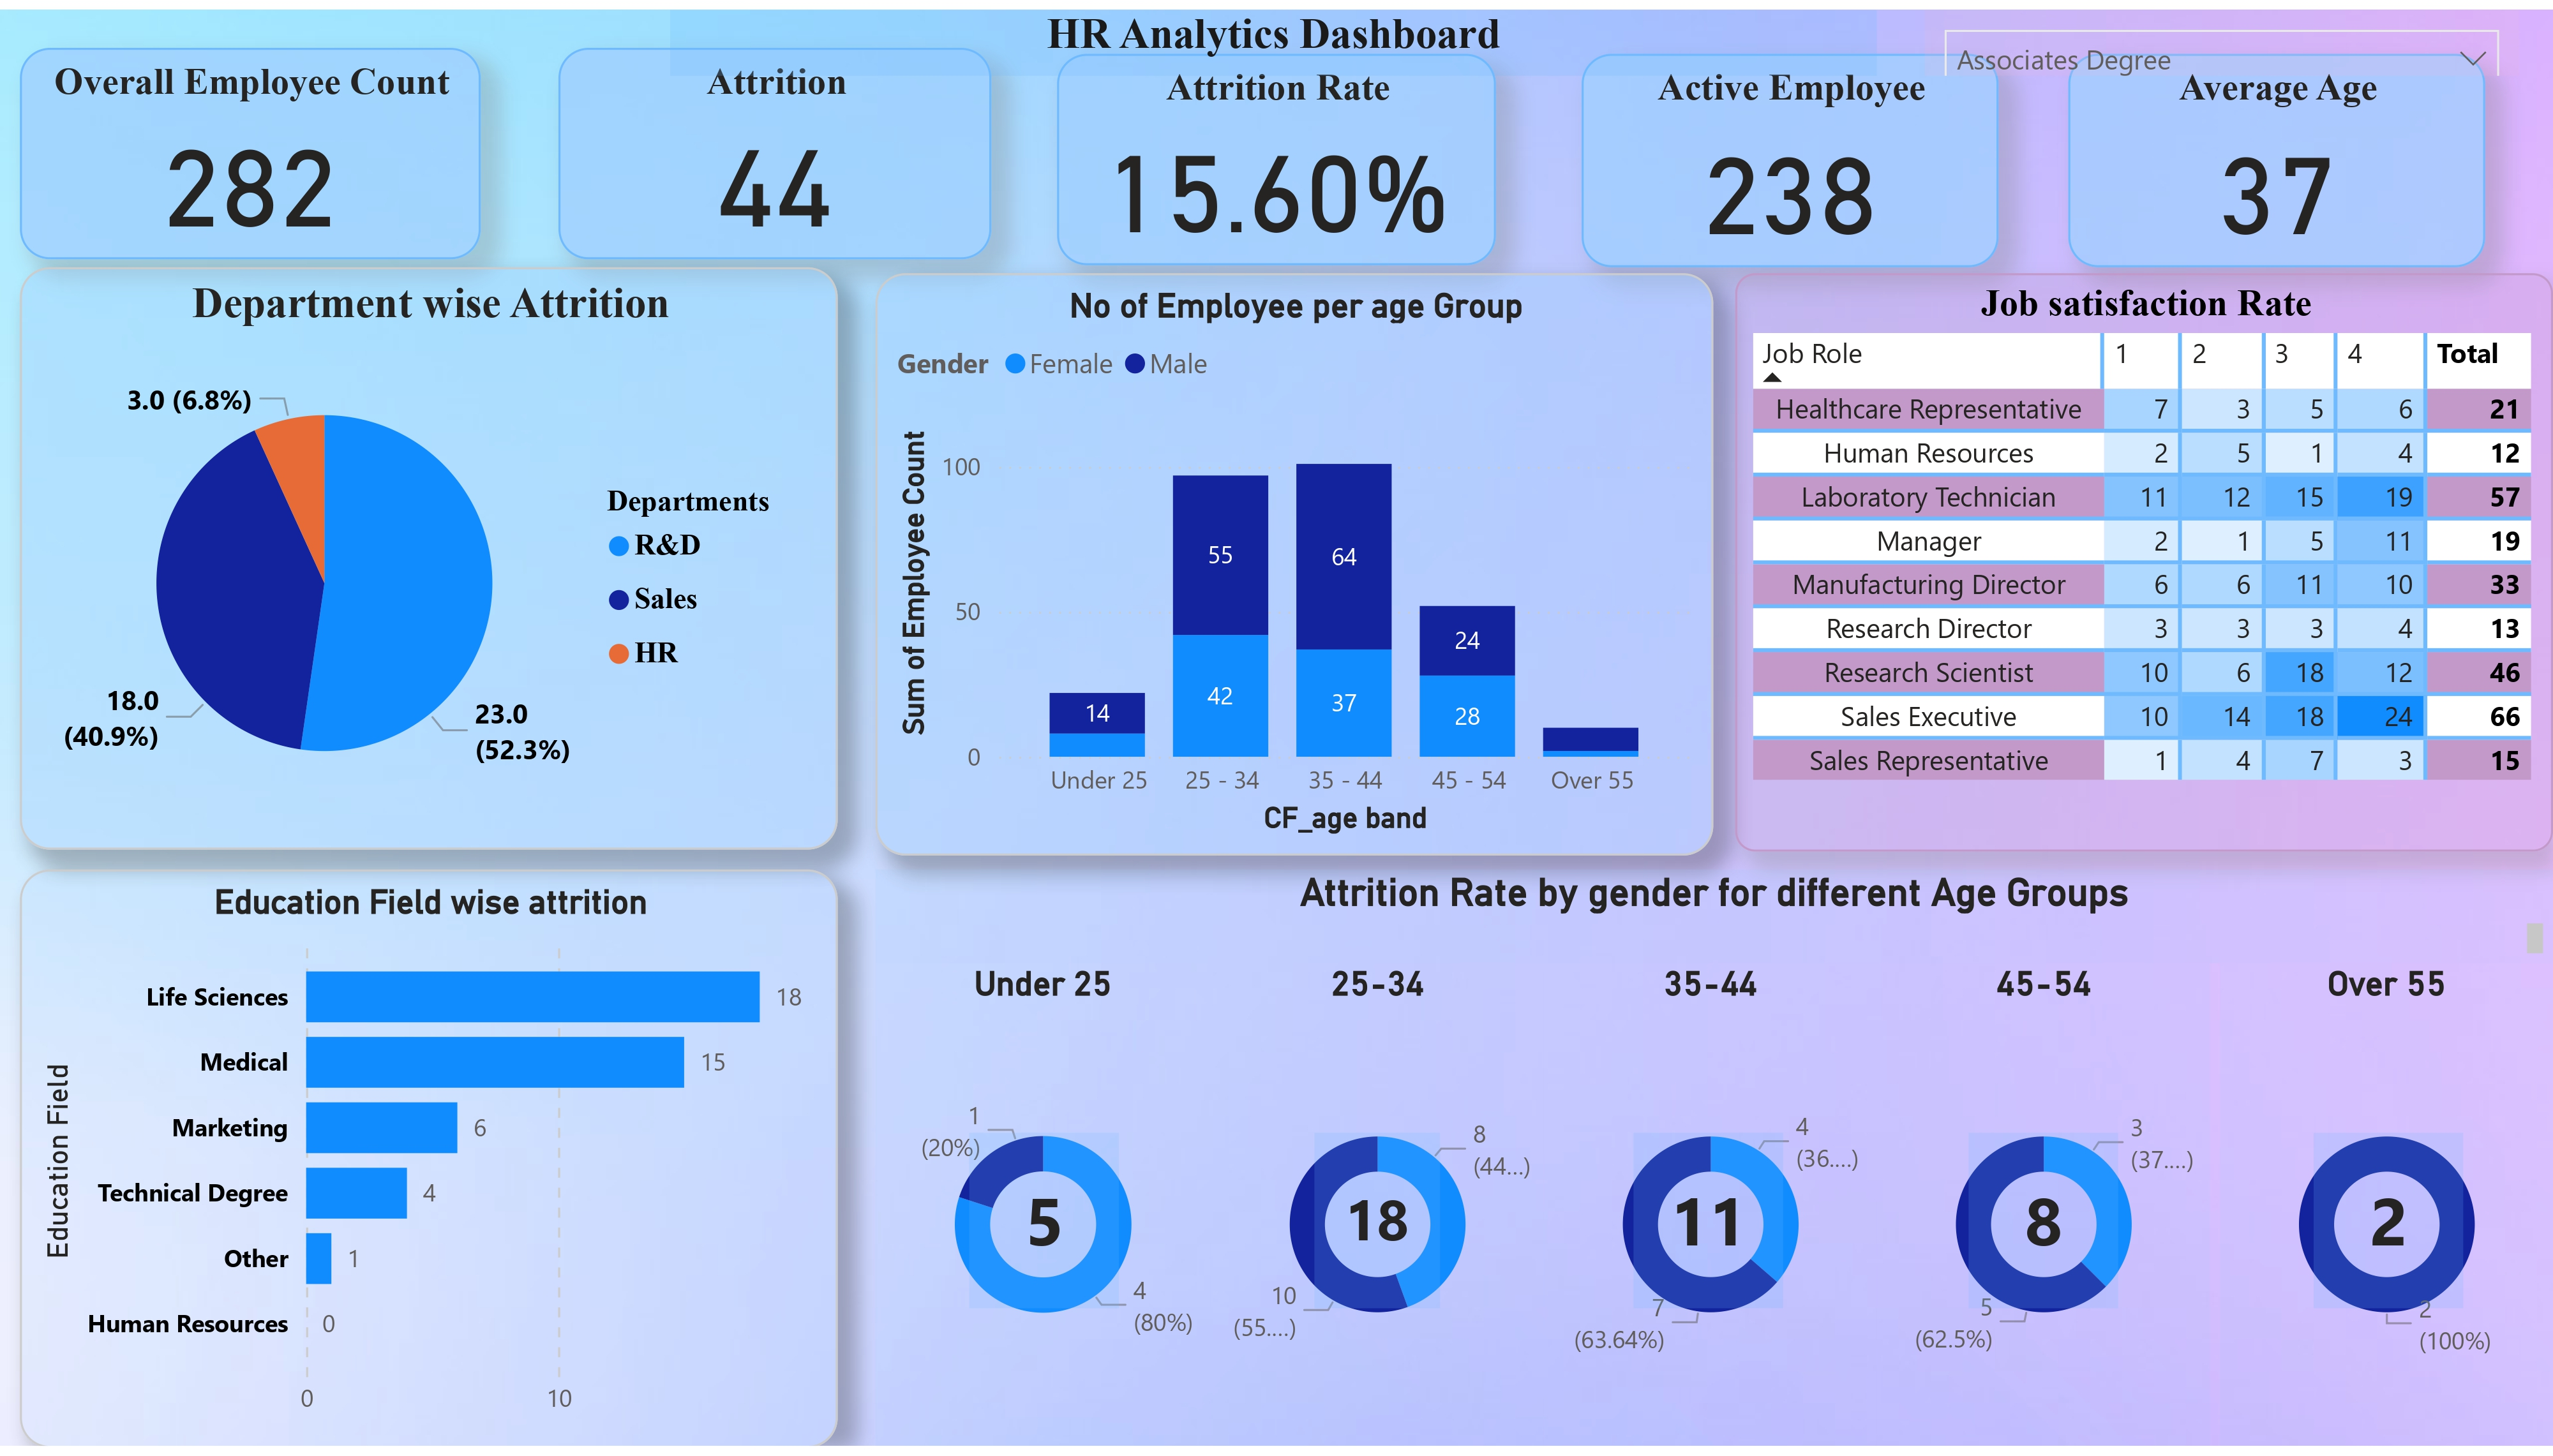

What the dashboard file says about the page in this screenshot:
{"tool":"powerbi","page":{"name":"Page 1","canvas":[1280,720],"ordinal":0},"visuals":[{"type":"card","title":"Overall Employee Count","fields":{"Values":["Sum(HR data.Employee Count)"]},"box":[9.6,19.2,230.5,105.7],"z":0},{"type":"card","title":"Attrition","fields":{"Values":["Sum(HR data.attrition count)"]},"box":[279.9,19.2,216.8,105.7],"z":1000},{"type":"card","title":"Attrition Rate","fields":{"Values":["HR data.attrition rate"]},"box":[529.7,22,219.6,105.7],"z":2000},{"type":"card","title":"Active Employee","fields":{"Values":["HR data.Active Employee"]},"box":[793.1,22,208.6,107],"z":3000},{"type":"card","title":"Average Age ","fields":{"Values":["Avg(HR data.Age)"]},"box":[1037.4,22,208.6,107],"z":4000},{"type":"pieChart","title":" Department wise Attrition ","fields":{"Y":["Sum(HR data.attrition count)"],"Category":["HR data.Department"]},"box":[9.6,129,410.3,292.3],"z":5000},{"type":"columnChart","title":"No of Employee per age Group","fields":{"Category":["HR data.CF_age band"],"Y":["Sum(HR data.Employee Count)"],"Series":["HR data.Gender"]},"box":[439.1,131.7,419.9,292.3],"z":6000},{"type":"pivotTable","title":"Job satisfaction Rate","fields":{"Rows":["HR data.Job Role"],"Values":["Sum(HR data.Employee Count)"],"Columns":["HR data.Job Satisfaction"]},"box":[870,131.7,410.3,289.5],"z":7000},{"type":"barChart","title":"Education Field wise attrition","fields":{"Y":["Sum(HR data.attrition count)"],"Category":["HR data.Education Field"]},"box":[9.7,430.7,410.2,289.5],"z":8000},{"type":"textbox","title":"Attrition Rate by  gender for different Age Groups ","box":[439.1,430.9,841.2,46.7],"z":9000},{"type":"donutChart","title":"Under 25","fields":{"Y":["Sum(HR data.attrition count)"],"Category":["HR data.Gender"],"Series":["HR data.CF_age band"]},"box":[439.1,477.5,168,242.9],"z":10000},{"type":"donutChart","title":"25-34","fields":{"Y":["Sum(HR data.attrition count)"],"Category":["HR data.Gender"],"Series":["HR data.CF_age band"]},"box":[606.5,477.5,167.4,242.9],"z":11000},{"type":"donutChart","title":"35-44","fields":{"Y":["Sum(HR data.attrition count)"],"Category":["HR data.Gender"],"Series":["HR data.CF_age band"]},"box":[773.9,477.5,167.4,242.9],"z":12000},{"type":"donutChart","title":"45-54","fields":{"Y":["Sum(HR data.attrition count)"],"Category":["HR data.Gender"],"Series":["HR data.CF_age band"]},"box":[941.3,477.5,167.4,242.9],"z":13000},{"type":"donutChart","title":"Over 55","fields":{"Y":["Sum(HR data.attrition count)"],"Category":["HR data.Gender"],"Series":["HR data.CF_age band"]},"box":[1112.9,477.5,167.4,242.9],"z":14000},{"type":"card","fields":{"Values":["Sum(HR data.attrition count)"]},"box":[485.8,562.6,75.5,87.8],"z":15000},{"type":"card","fields":{"Values":["Sum(HR data.attrition count)"]},"box":[658.7,563.4,62.7,88.1],"z":16000},{"type":"card","fields":{"Values":["Sum(HR data.attrition count)"]},"box":[819.2,562.6,75.5,87.8],"z":17000},{"type":"card","fields":{"Values":["Sum(HR data.attrition count)"]},"box":[986.6,562.6,75.5,87.8],"z":18000},{"type":"card","fields":{"Values":["Sum(HR data.attrition count)"]},"box":[1159.5,562.6,75.5,87.8],"z":19000},{"type":"textbox","title":"HR Analytics Dashboard","box":[336.2,0,605.1,32.9],"z":20000},{"type":"slicer","fields":{"Values":["HR data.Education"]},"box":[964.7,0,297.8,32.9],"z":21000}]}

Visuals, with their boxes in screenshot pixels (x1, y1, x2, y2), scaled from the page's 1280x720 canvas onto the 2553x1456 screenshot:
"Overall Employee Count" card: pyautogui.locateOnScreen(19, 39, 479, 253)
"Attrition" card: pyautogui.locateOnScreen(558, 39, 991, 253)
"Attrition Rate" card: pyautogui.locateOnScreen(1056, 45, 1495, 258)
"Active Employee" card: pyautogui.locateOnScreen(1582, 45, 1998, 261)
"Average Age " card: pyautogui.locateOnScreen(2069, 45, 2485, 261)
" Department wise Attrition " pieChart: pyautogui.locateOnScreen(19, 261, 837, 852)
"No of Employee per age Group" columnChart: pyautogui.locateOnScreen(876, 266, 1713, 858)
"Job satisfaction Rate" pivotTable: pyautogui.locateOnScreen(1735, 266, 2552, 852)
"Education Field wise attrition" barChart: pyautogui.locateOnScreen(19, 871, 837, 1455)
"Attrition Rate by  gender for different Age Groups " textbox: pyautogui.locateOnScreen(876, 872, 2552, 966)
"Under 25" donutChart: pyautogui.locateOnScreen(876, 965, 1211, 1455)
"25-34" donutChart: pyautogui.locateOnScreen(1209, 965, 1543, 1455)
"35-44" donutChart: pyautogui.locateOnScreen(1543, 965, 1878, 1455)
"45-54" donutChart: pyautogui.locateOnScreen(1878, 965, 2212, 1455)
"Over 55" donutChart: pyautogui.locateOnScreen(2220, 965, 2552, 1455)
card - Sum(HR data.attrition count): pyautogui.locateOnScreen(969, 1138, 1119, 1315)
card - Sum(HR data.attrition count): pyautogui.locateOnScreen(1314, 1140, 1439, 1318)
card - Sum(HR data.attrition count): pyautogui.locateOnScreen(1634, 1138, 1785, 1315)
card - Sum(HR data.attrition count): pyautogui.locateOnScreen(1968, 1138, 2118, 1315)
card - Sum(HR data.attrition count): pyautogui.locateOnScreen(2312, 1138, 2463, 1315)
"HR Analytics Dashboard" textbox: pyautogui.locateOnScreen(671, 0, 1878, 66)
slicer - HR data.Education: pyautogui.locateOnScreen(1924, 0, 2518, 66)
